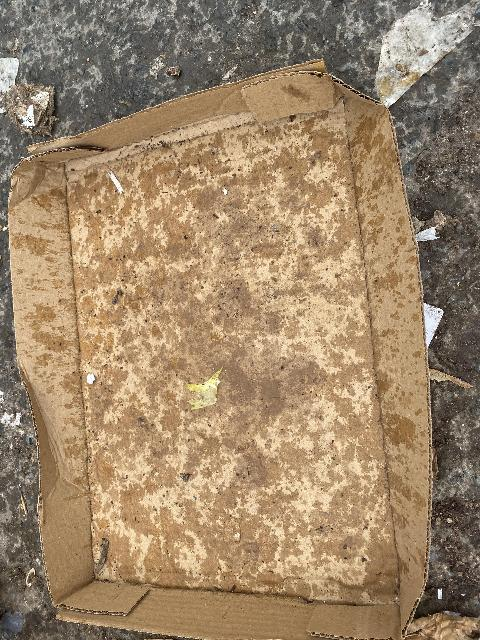Kagit: (5, 62, 424, 640), (356, 3, 480, 100)
